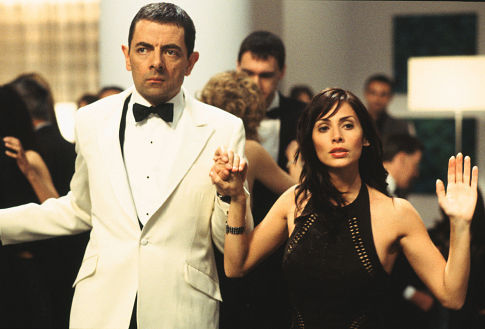25: (230, 43, 284, 115)
27: (389, 144, 423, 193)
31: (304, 92, 370, 175)
35: (362, 76, 392, 115)
37: (119, 8, 194, 107)
Bracelet: (223, 222, 247, 240)
Coat: (41, 77, 273, 329)
Dress: (267, 175, 409, 329)
Female: (304, 92, 370, 175)
Male: (119, 8, 194, 107), (230, 43, 284, 115), (389, 144, 423, 193), (362, 76, 392, 115)
Tie: (127, 100, 177, 126)
